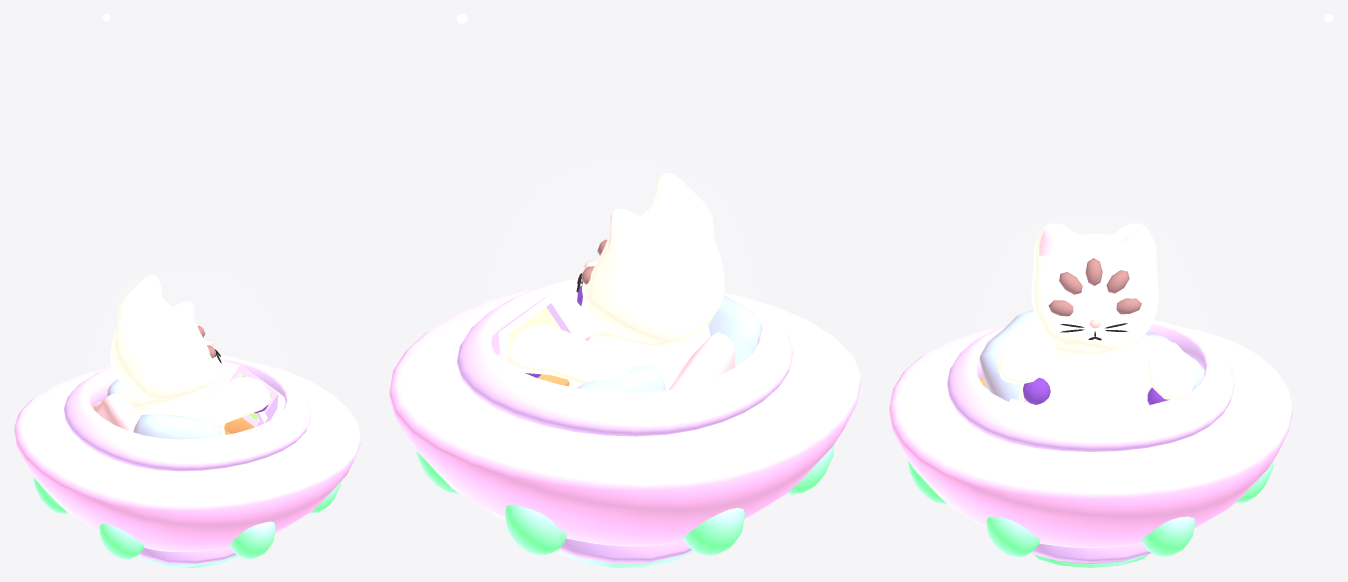
File: cat.glb
3 renders of one model, left to right at view 1: azimuth 30°, elevation 25°; view 2: azimuth 150°, elevation 25°; view 3: azimuth 270°, elevation 25°, orthographic. The views are drawn at different scales.
Visible parts, largest first — view 1: Cube.009, cat, Cube.027, lights, Cube.041, Cube.013, Cube.026, Cube.042; view 2: Cube.009, cat, Cube.027, lights, Cube.026, Cube.013, Cube.042, Cube.041, Cube.040; view 3: Cube.009, cat, Cube.027, lights, Cube.041, Cube.013, Cube.023, Cube.026, Sphere.
Part boxes in pixels (x1=…): Cube.009: x1=14, y1=362, x2=360, y2=551; cat: x1=110, y1=274, x2=270, y2=435; Cube.027: x1=64, y1=354, x2=310, y2=471; lights: x1=33, y1=477, x2=340, y2=559; Cube.041: x1=133, y1=413, x2=221, y2=439; Cube.013: x1=137, y1=546, x2=237, y2=567; Cube.026: x1=207, y1=360, x2=285, y2=426; Cube.042: x1=92, y1=393, x2=140, y2=431; Cube.009: x1=389, y1=288, x2=860, y2=546; cat: x1=505, y1=172, x2=724, y2=390; Cube.027: x1=456, y1=278, x2=793, y2=436; lights: x1=416, y1=444, x2=834, y2=555; Cube.026: x1=491, y1=288, x2=592, y2=363; Cube.013: x1=556, y1=538, x2=693, y2=567; Cube.042: x1=669, y1=332, x2=735, y2=389; Cube.041: x1=708, y1=295, x2=762, y2=366; Cube.040: x1=576, y1=365, x2=665, y2=392; Cube.009: x1=889, y1=326, x2=1292, y2=548; cat: x1=998, y1=223, x2=1196, y2=407; Cube.027: x1=947, y1=320, x2=1234, y2=451; lights: x1=908, y1=460, x2=1273, y2=556; Cube.041: x1=979, y1=310, x2=1044, y2=400; Cube.013: x1=1030, y1=543, x2=1151, y2=567; Cube.023: x1=1048, y1=258, x2=1141, y2=316; Cube.026: x1=1007, y1=398, x2=1177, y2=414; Sphere: x1=1023, y1=378, x2=1050, y2=404.
Bounding box in the file's own units: 5.59 × 8.31 × 6.16.
